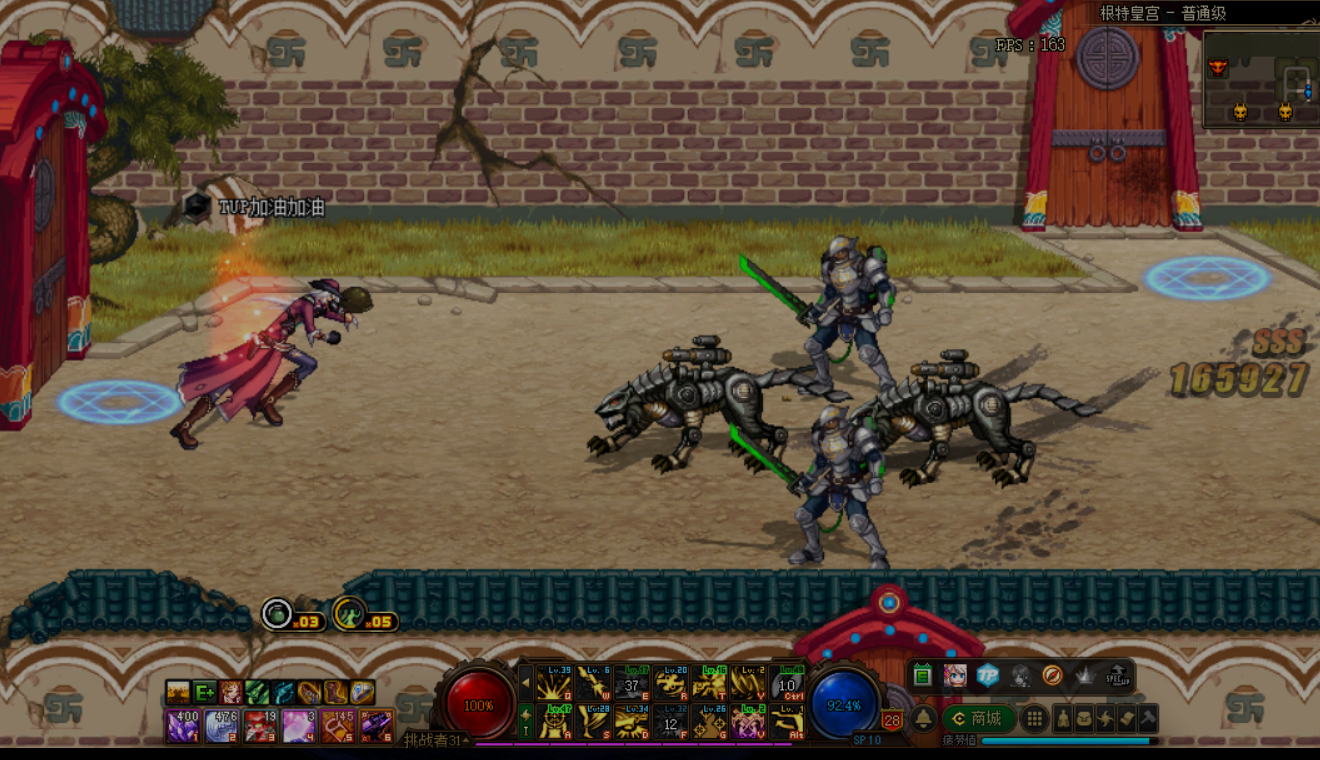monster: (857, 350, 1089, 489), (593, 327, 795, 475), (736, 219, 903, 398), (718, 411, 896, 577)
warrior: (187, 275, 348, 453)
